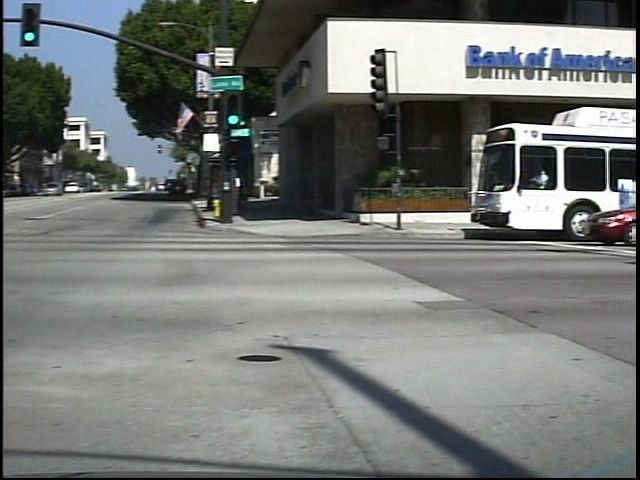person: (237, 167, 260, 217)
